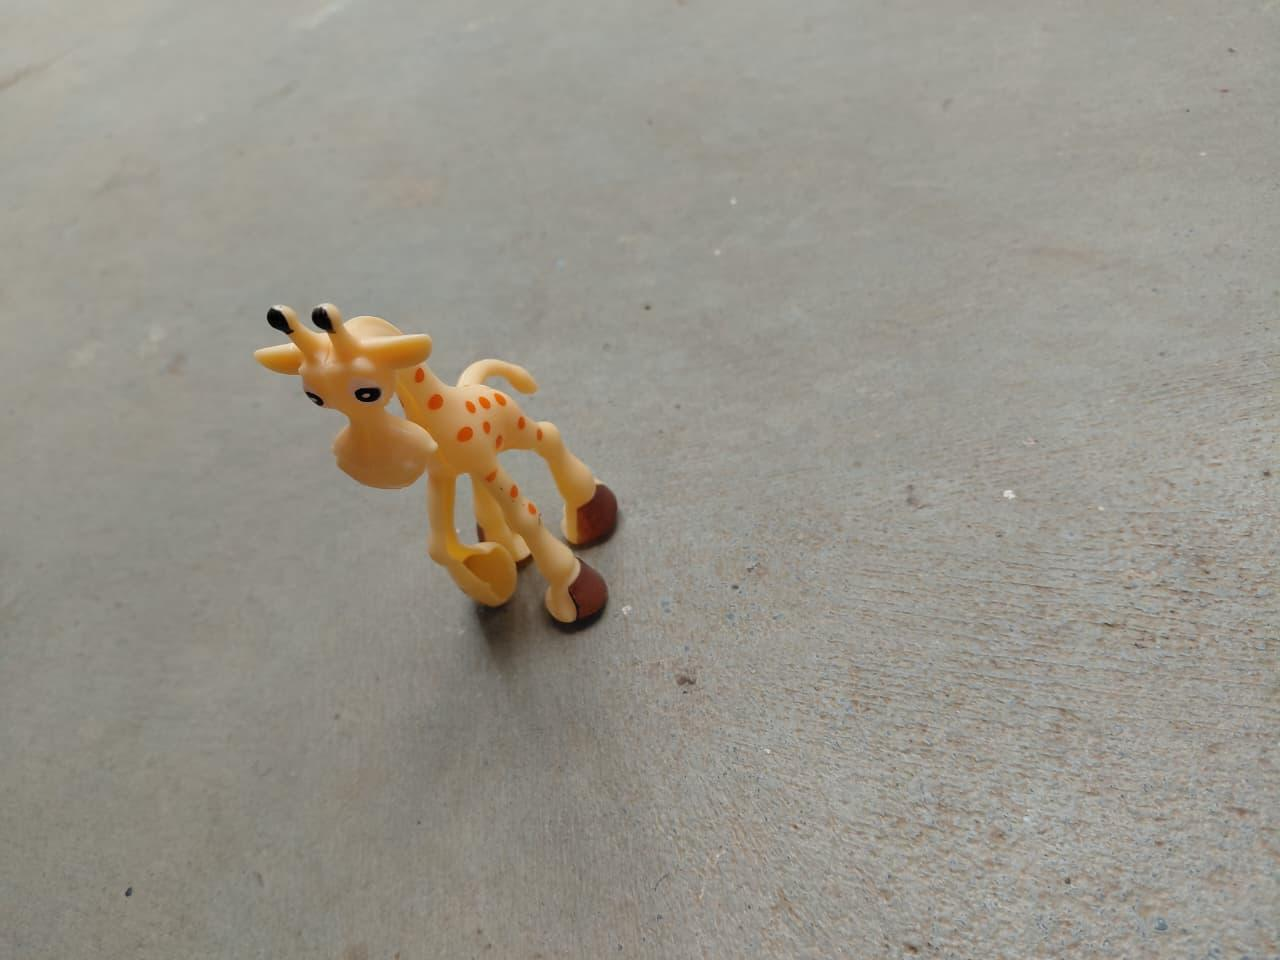giraffe: (226, 276, 653, 662)
